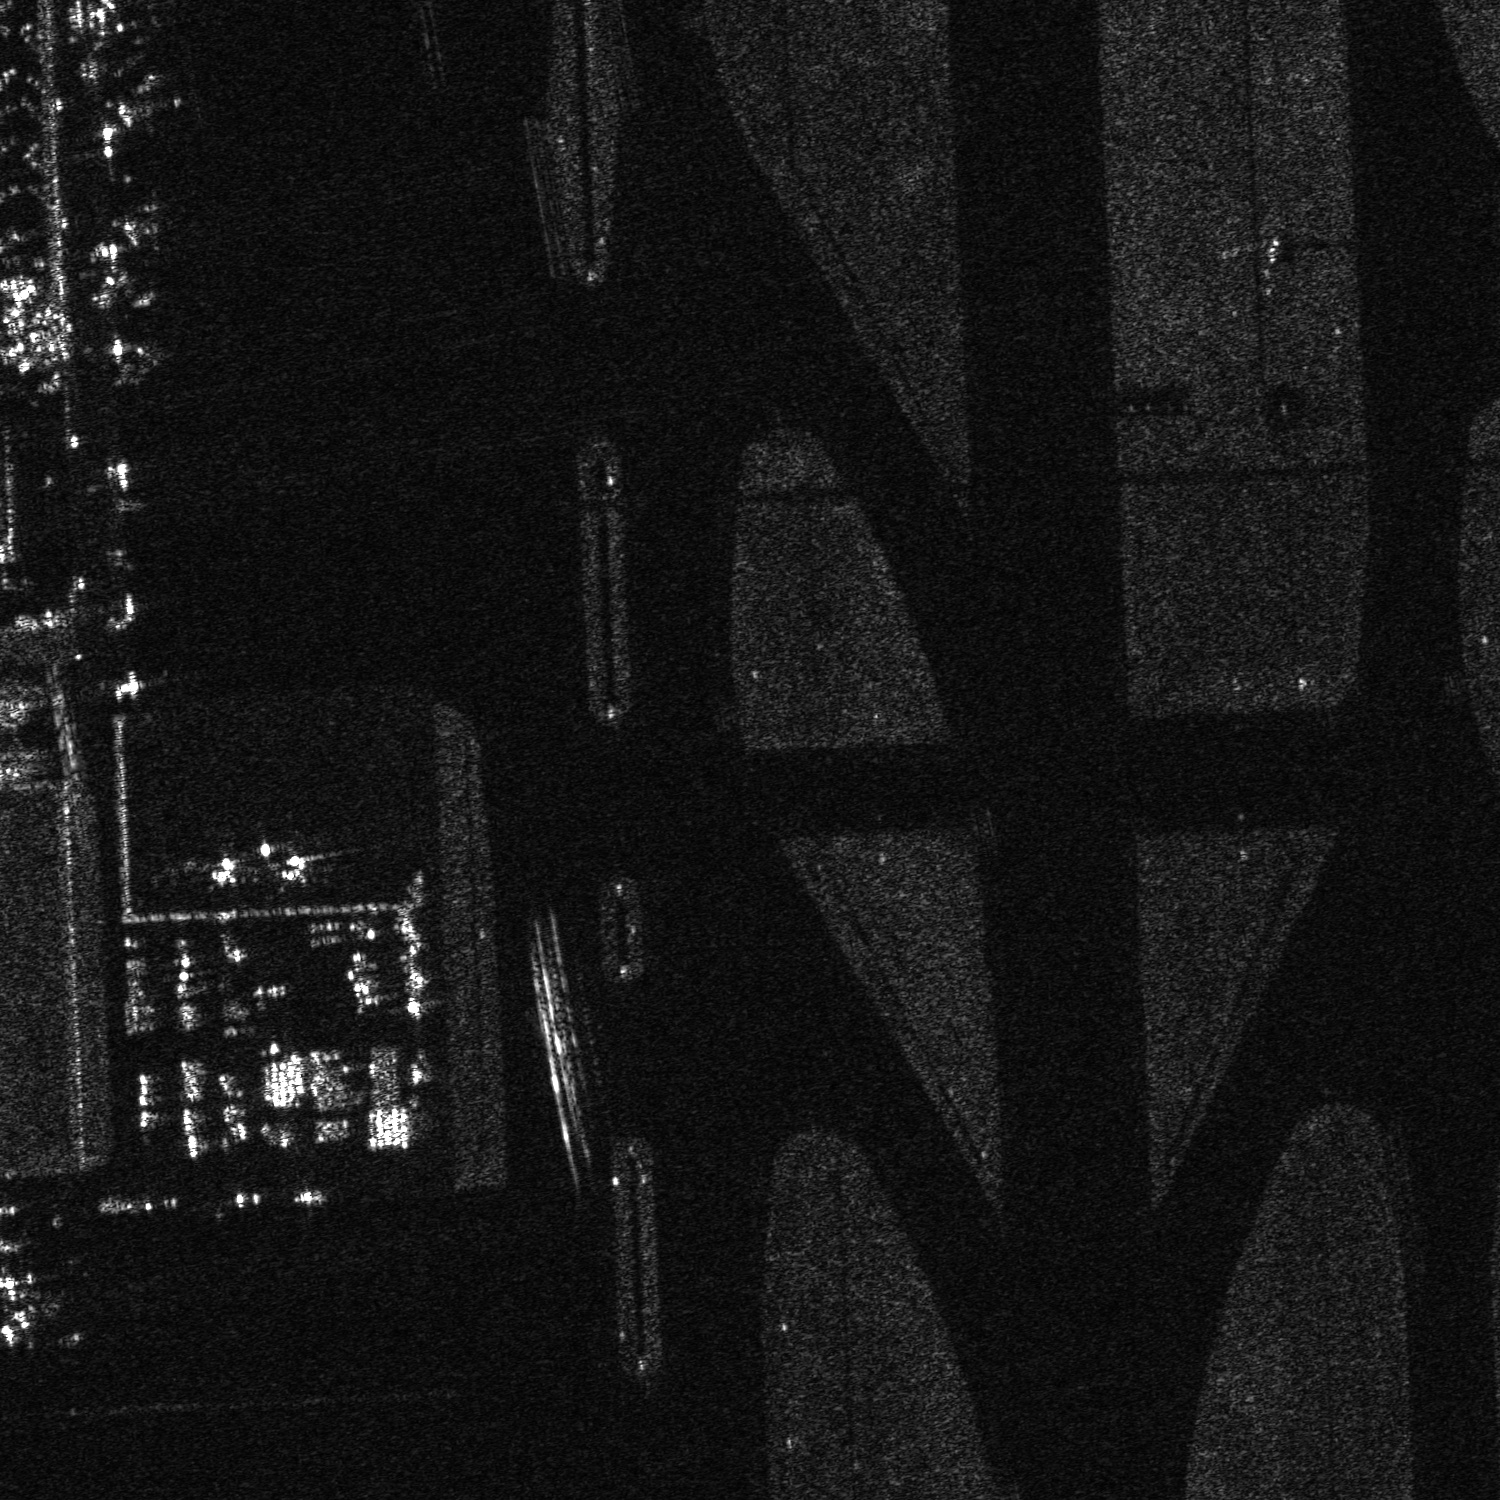ARJ21: (196, 837, 262, 898)
other: (109, 60, 195, 146), (268, 834, 364, 882)
